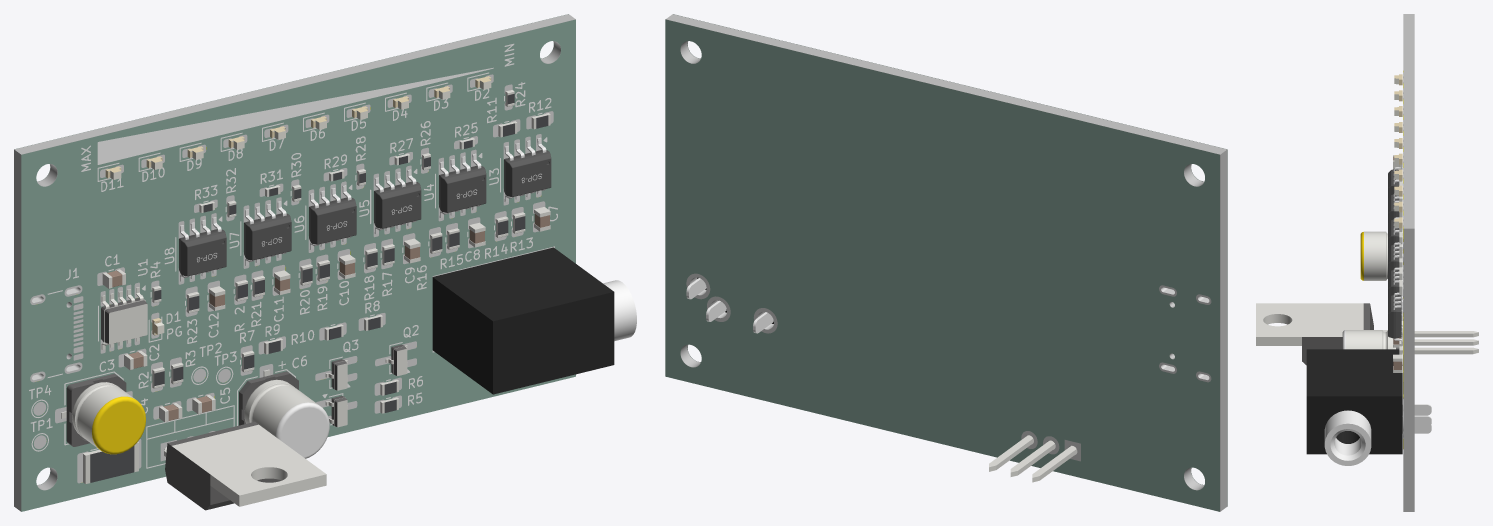
Rendered from haven map.glb.
The picture shows the model from 3 angles, left to right: view 1: azimuth 30°, elevation 25°; view 2: azimuth 150°, elevation 25°; view 3: azimuth 270°, elevation 25°; orthographic projection. The views are drawn at different scales.
Visible parts, largest first — view 1: lie-detector_soldermask, Jack_3.5mm_CUI_SJ1-3533NG_Horizontal (×2), TO-220-3_Vertical, lie-detector_PCB, CP_Elec_6.3x5.4, lie-detector_silkscreen, CP_Elec_6.3x7.7, SSOP-10-1EP_3.9x4.9mm_P1mm_EP2.1x3.3mm, SOP-8_3.76x4.96mm_P1.27mm_1, SOP-8_3.76x4.96mm_P1.27mm_2, SOP-8_3.76x4.96mm_P1.27mm_5, SOP-8_3.76x4.96mm_P1.27mm_3 (+3 smaller); view 2: lie-detector_soldermask (×2), lie-detector_PCB, TO-220-3_Vertical; view 3: Jack_3.5mm_CUI_SJ1-3533NG_Horizontal (×2), TO-220-3_Vertical, lie-detector_PCB, CP_Elec_6.3x5.4, CP_Elec_6.3x7.7, SOP-8_3.76x4.96mm_P1.27mm_1.
Part boxes in pixels (bbox=[...]): lie-detector_soldermask: bbox=[21, 19, 575, 511]; Jack_3.5mm_CUI_SJ1-3533NG_Horizontal (×2): bbox=[432, 247, 636, 394]; TO-220-3_Vertical: bbox=[164, 422, 326, 510]; lie-detector_PCB: bbox=[14, 14, 575, 511]; CP_Elec_6.3x5.4: bbox=[61, 373, 145, 454]; lie-detector_silkscreen: bbox=[97, 67, 493, 164]; CP_Elec_6.3x7.7: bbox=[239, 369, 329, 458]; SSOP-10-1EP_3.9x4.9mm_P1mm_EP2.1x3.3mm: bbox=[101, 287, 147, 349]; SOP-8_3.76x4.96mm_P1.27mm_1: bbox=[504, 150, 551, 196]; SOP-8_3.76x4.96mm_P1.27mm_2: bbox=[439, 165, 486, 212]; SOP-8_3.76x4.96mm_P1.27mm_5: bbox=[374, 181, 421, 228]; SOP-8_3.76x4.96mm_P1.27mm_3: bbox=[244, 213, 291, 260]; lie-detector_soldermask (×2): bbox=[665, 14, 1227, 511]; lie-detector_PCB: bbox=[665, 14, 1227, 511]; TO-220-3_Vertical: bbox=[989, 435, 1077, 482]; Jack_3.5mm_CUI_SJ1-3533NG_Horizontal (×2): bbox=[1306, 349, 1402, 465]; TO-220-3_Vertical: bbox=[1256, 303, 1478, 365]; lie-detector_PCB: bbox=[1403, 14, 1414, 511]; CP_Elec_6.3x5.4: bbox=[1360, 231, 1387, 280]; CP_Elec_6.3x7.7: bbox=[1342, 330, 1399, 349]; SOP-8_3.76x4.96mm_P1.27mm_1: bbox=[1388, 295, 1401, 338].
Bounding box in the file's own units: 0.0664 × 0.04 × 0.0285.
